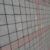zebra: (1, 14, 50, 50)
